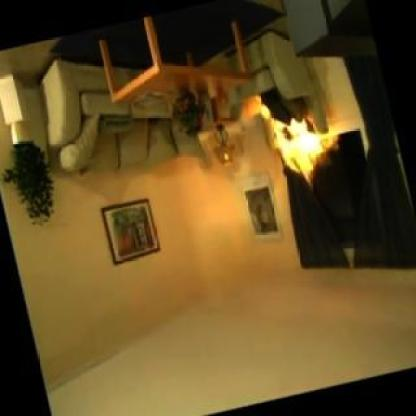Fire: (259, 90, 333, 188)
